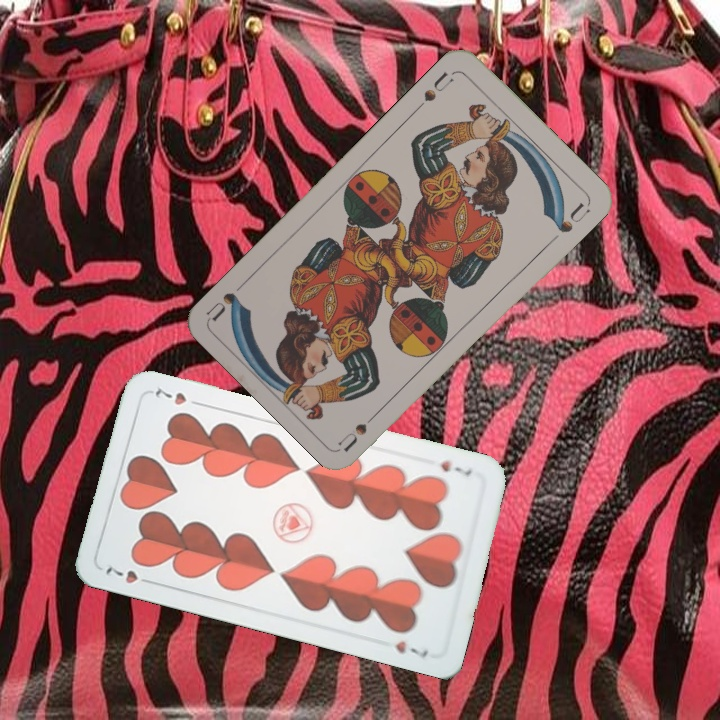H7: (101, 562, 157, 587), (436, 456, 474, 479)
SU: (335, 404, 385, 453), (411, 67, 457, 114)
